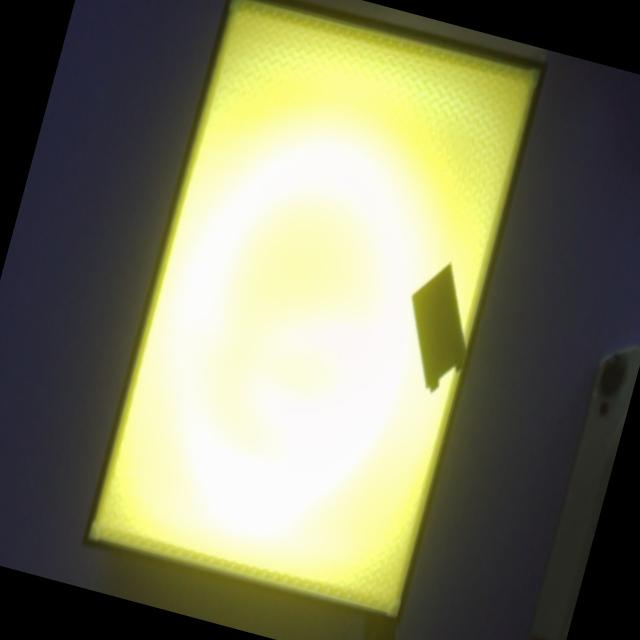bateria: (411, 260, 467, 392)
mesa: (81, 0, 547, 628)
